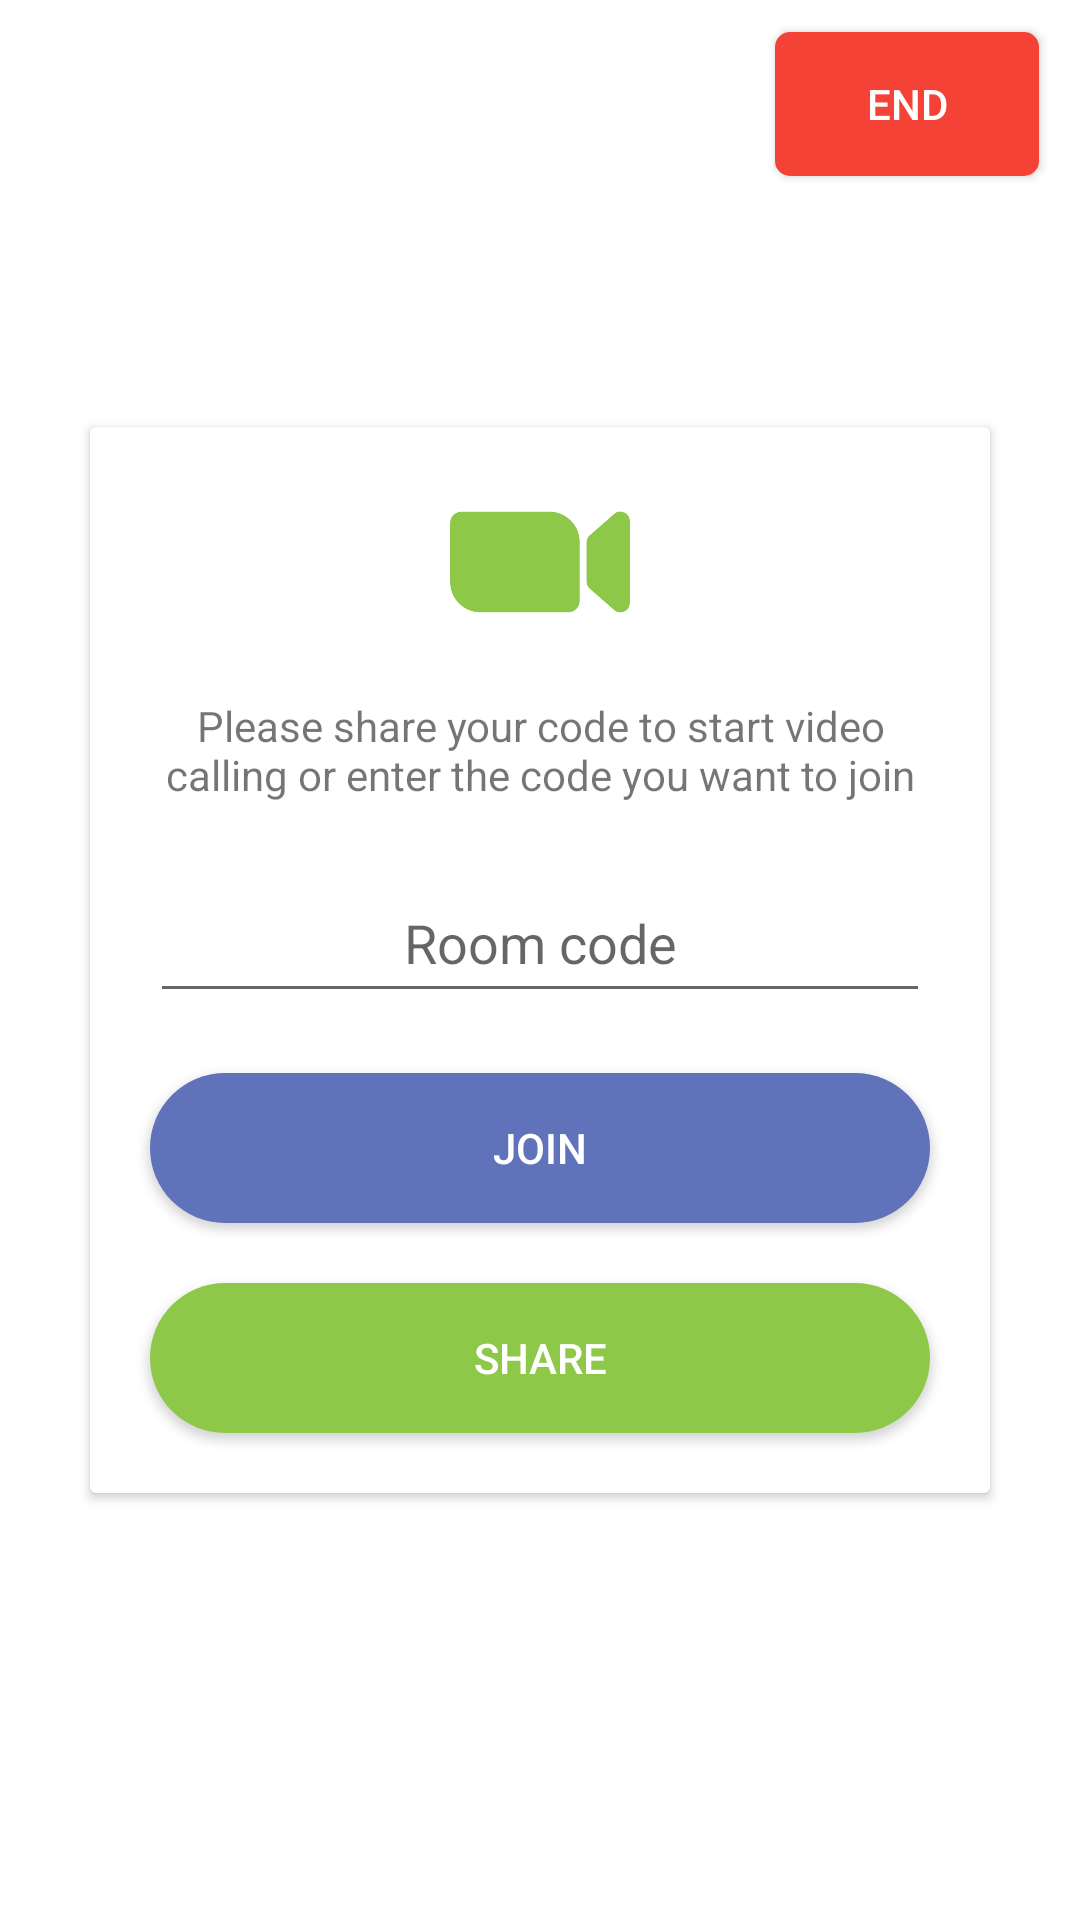

Named icons in this screenshot (1080w x 1920h) and their bounding boxes, (x1, y1, x2, y2):
zoom: (450, 511, 630, 613)
